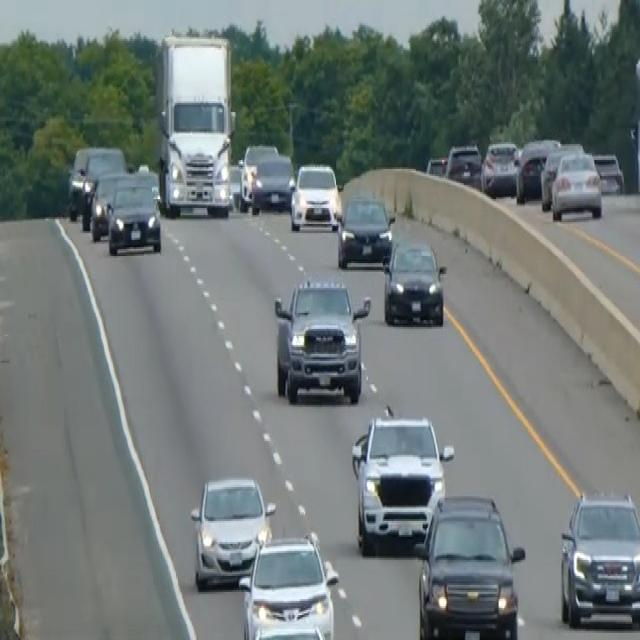car: (413, 491, 525, 638), (350, 404, 453, 554), (558, 487, 639, 629), (237, 530, 339, 638), (189, 473, 275, 590), (382, 237, 446, 327), (106, 172, 162, 256), (336, 194, 395, 268), (289, 160, 342, 231), (550, 150, 602, 220), (539, 140, 584, 210), (514, 137, 560, 203), (250, 151, 295, 213), (89, 169, 128, 240), (238, 140, 278, 202), (480, 139, 519, 197), (66, 144, 91, 219), (445, 140, 482, 188), (243, 620, 335, 638), (592, 149, 624, 194), (135, 162, 161, 206), (227, 160, 246, 210), (425, 153, 447, 178)
jeep: (272, 272, 371, 405)
lorry: (153, 30, 237, 219)
